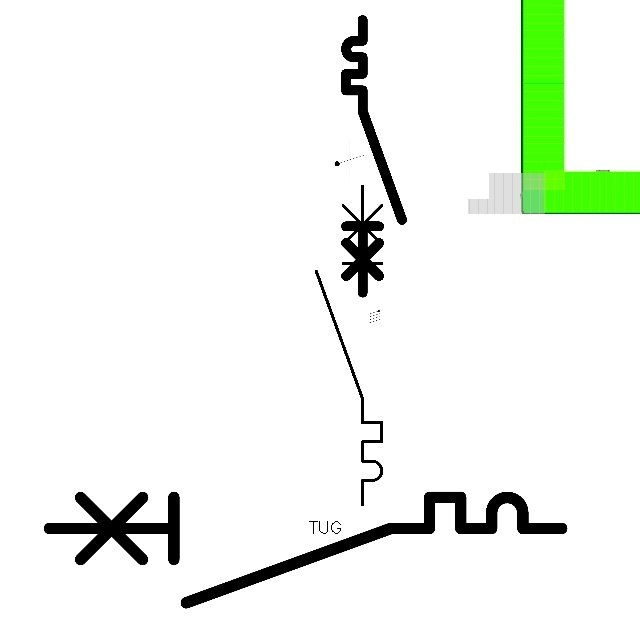interruptor_termomagnetico: (36, 484, 575, 616), (308, 177, 390, 512), (339, 13, 409, 299)
